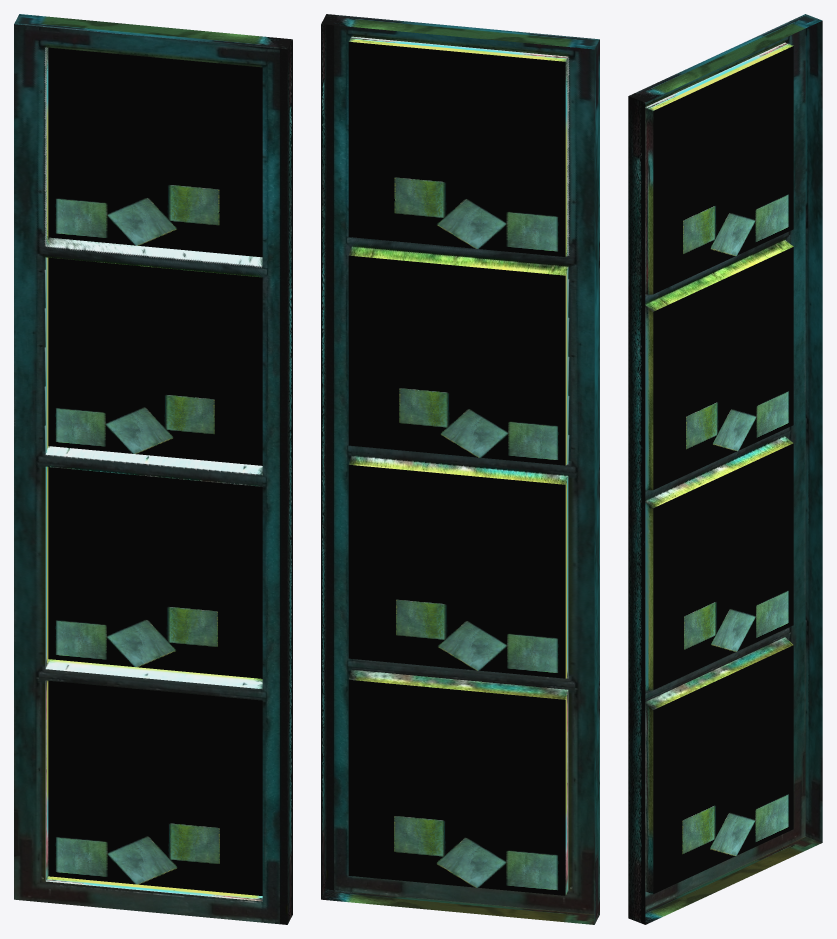
The model's file is ventana2.obj.
3 views of the same model, side by side, from view 1: azimuth 30°, elevation 25°; view 2: azimuth 210°, elevation 25°; view 3: azimuth 270°, elevation 25° (orthographic). The views are drawn at different scales.
Parts seen in each view (by area): view 1: pasted__win_anim group, group pasted__glass pasted__polySurface8, group pasted__glass pasted__polySurface7, group pasted__glass pasted__polySurface9, group pasted__polySurface6 pasted__glass; view 2: pasted__win_anim group, group pasted__glass pasted__polySurface8, group pasted__glass pasted__polySurface9, group pasted__glass pasted__polySurface7, group pasted__polySurface6 pasted__glass; view 3: pasted__win_anim group, group pasted__glass pasted__polySurface8, group pasted__glass pasted__polySurface9, group pasted__glass pasted__polySurface7, group pasted__polySurface6 pasted__glass.
Part boxes in pixels (left/top/right/bottom): pasted__win_anim group: left=14, top=14, right=292, bottom=924; group pasted__glass pasted__polySurface8: left=48, top=680, right=262, bottom=895; group pasted__glass pasted__polySurface7: left=48, top=467, right=262, bottom=678; group pasted__glass pasted__polySurface9: left=48, top=47, right=262, bottom=257; group pasted__polySurface6 pasted__glass: left=48, top=257, right=262, bottom=465; pasted__win_anim group: left=321, top=14, right=599, bottom=924; group pasted__glass pasted__polySurface8: left=348, top=680, right=565, bottom=895; group pasted__glass pasted__polySurface9: left=348, top=41, right=565, bottom=256; group pasted__glass pasted__polySurface7: left=348, top=465, right=565, bottom=678; group pasted__polySurface6 pasted__glass: left=348, top=255, right=565, bottom=465; pasted__win_anim group: left=628, top=14, right=822, bottom=924; group pasted__glass pasted__polySurface8: left=653, top=645, right=793, bottom=893; group pasted__glass pasted__polySurface9: left=653, top=46, right=793, bottom=294; group pasted__glass pasted__polySurface7: left=653, top=443, right=793, bottom=689; group pasted__polySurface6 pasted__glass: left=653, top=247, right=793, bottom=489.
Bounding box in the file's own units: 0.7184 × 3.11 × 0.6646.
Materials: 2 (2 with a texture image).
